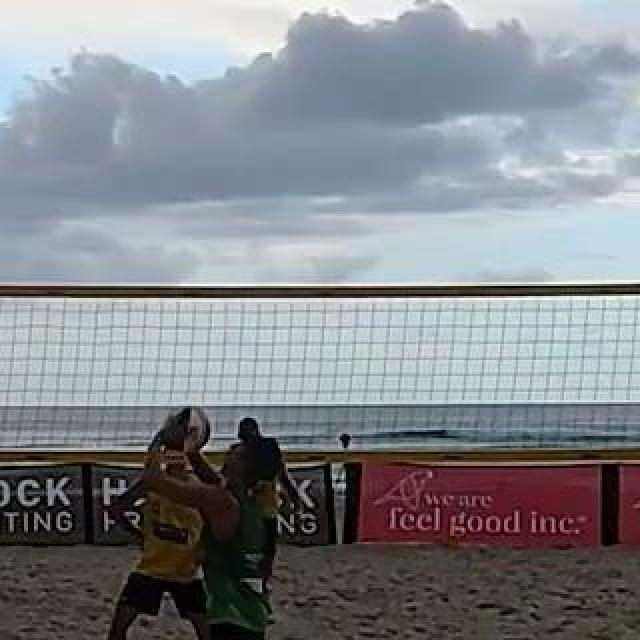volleyball: (163, 405, 211, 451)
